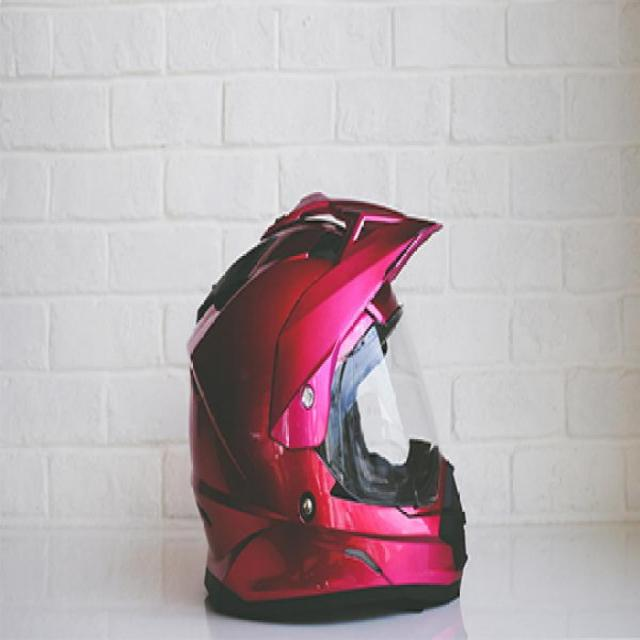Helmet: (179, 179, 467, 620)
